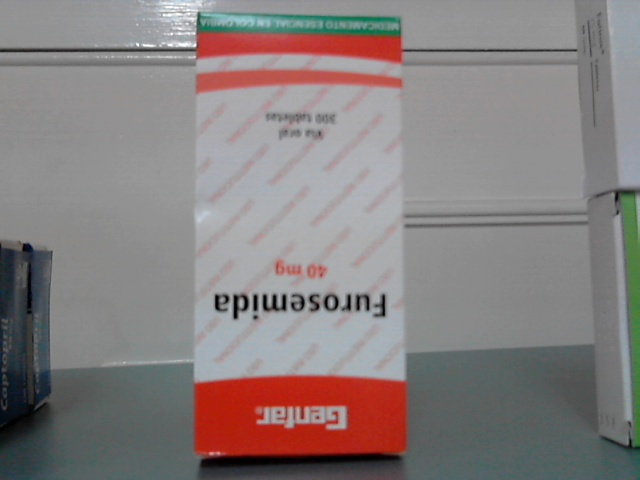Genfar: (195, 16, 405, 453)
